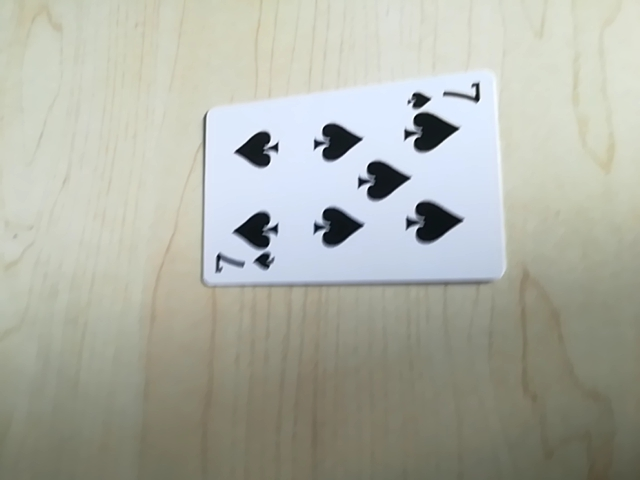ht 7: (407, 78, 489, 112), (208, 249, 280, 281)
